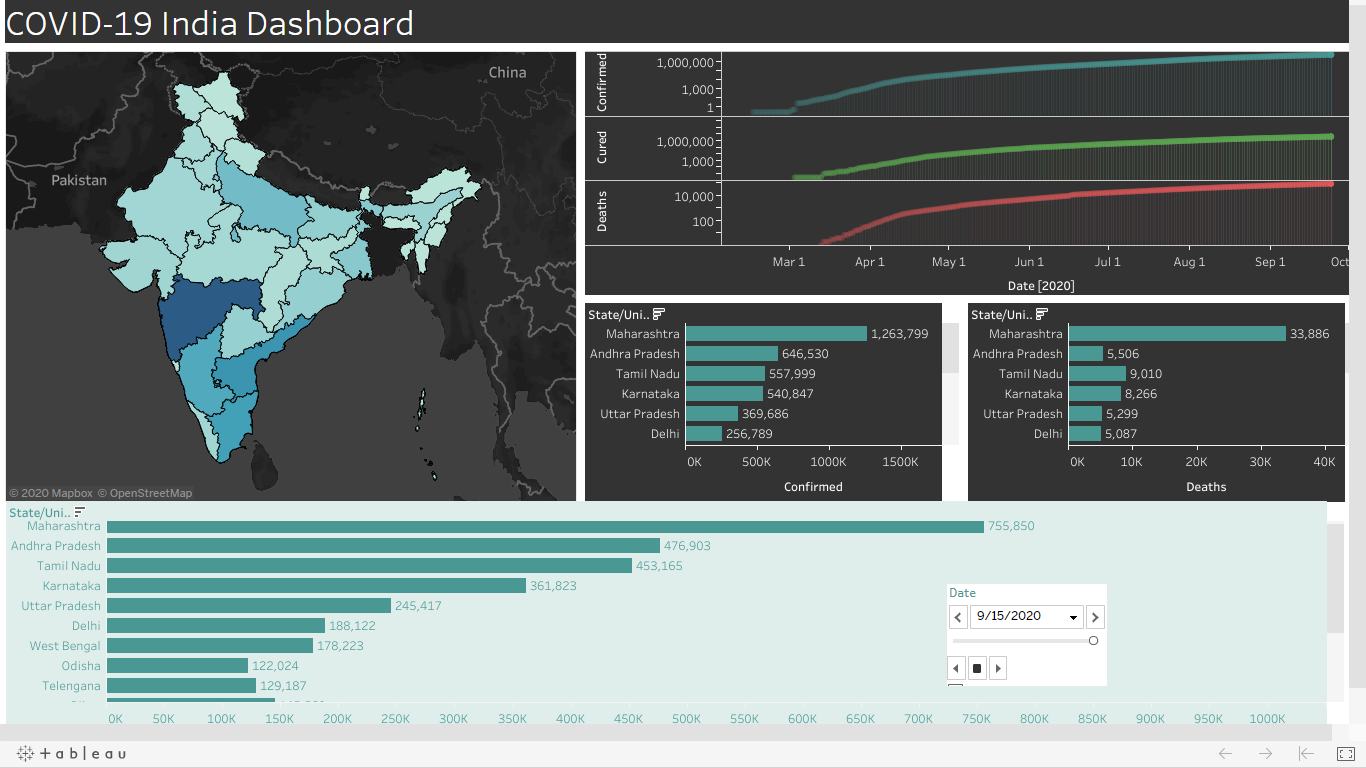

This screenshot's page, from the dashboard's own definition file:
{"tool":"tableau","page":{"name":"Dashboard 1","canvas":[1366,768],"ordinal":0},"visuals":[{"type":"worksheet","param":"vert","box":[1,1,1366,768]},{"type":"worksheet","param":"vert","box":[1,1,1366,52]},{"type":"worksheet","box":[1,1,1366,52]},{"type":"worksheet","param":"horz","box":[1,53,1366,459]},{"type":"worksheet","title":"Map","mark":"Automatic","box":[1,53,580,459]},{"type":"worksheet","param":"vert","box":[581,53,786,459]},{"type":"worksheet","title":"Confirmed","mark":"Automatic","rows":["Confirmed","Confirmed","Cured","Cured","Deaths","Deaths"],"cols":["Date"],"box":[581,53,786,252]},{"type":"worksheet","param":"horz","box":[581,305,786,207]},{"type":"worksheet","title":"Bar cases","mark":"Automatic","rows":["State/UnionTerritory"],"cols":["Confirmed"],"box":[581,305,383,207]},{"type":"worksheet","param":"horz","box":[964,305,403,207]},{"type":"worksheet","title":"Bar death","mark":"Automatic","rows":["State/UnionTerritory"],"cols":["Deaths"],"box":[964,305,403,207]},{"type":"worksheet","title":"Bar cured","mark":"Automatic","rows":["State/UnionTerritory"],"cols":["Cured"],"box":[6,507,1339,258]},{"type":"worksheet","param":"horz","box":[1,512,1366,257]},{"type":"worksheet","title":"Bar cured","mark":"Automatic","rows":["State/UnionTerritory"],"cols":["Cured"],"box":[947,590,160,102]}]}

Visuals, with their boxes in screenshot pixels (x1, y1, x2, y2):
worksheet: <bbox>1, 0, 1348, 751</bbox>
worksheet: <bbox>1, 0, 1348, 45</bbox>
worksheet: <bbox>1, 0, 1348, 45</bbox>
worksheet: <bbox>1, 45, 1348, 498</bbox>
"Map" worksheet: <bbox>1, 45, 573, 498</bbox>
worksheet: <bbox>573, 45, 1348, 498</bbox>
"Confirmed" worksheet: <bbox>573, 45, 1348, 294</bbox>
worksheet: <bbox>573, 294, 1348, 498</bbox>
"Bar cases" worksheet: <bbox>573, 294, 951, 498</bbox>
worksheet: <bbox>951, 294, 1348, 498</bbox>
"Bar death" worksheet: <bbox>951, 294, 1348, 498</bbox>
"Bar cured" worksheet: <bbox>6, 493, 1326, 747</bbox>
worksheet: <bbox>1, 498, 1348, 751</bbox>
"Bar cured" worksheet: <bbox>934, 575, 1092, 675</bbox>
